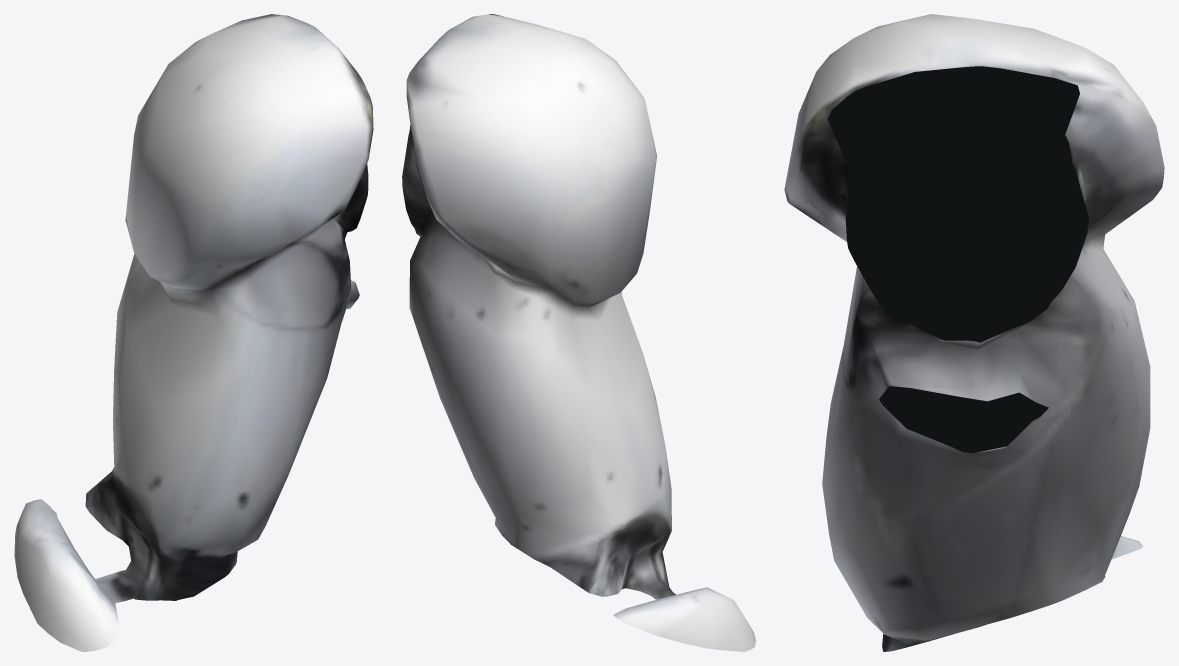
File: right_upper_arm.obj
3 views of the same model, side by side, from view 1: azimuth 30°, elevation 25°; view 2: azimuth 150°, elevation 25°; view 3: azimuth 270°, elevation 25° (orthographic). The views are drawn at different scales.
Parts seen in each view (by area): view 1: right_upper_arm; view 2: right_upper_arm; view 3: right_upper_arm.
Boxes of the visible parts, x1,y1,x2,y2 form: right_upper_arm: (14, 14, 373, 651); right_upper_arm: (402, 14, 755, 651); right_upper_arm: (784, 14, 1164, 651).
Bounding box in the file's own units: 0.2207 × 0.3932 × 0.1853.
2 materials, 1 textured.
